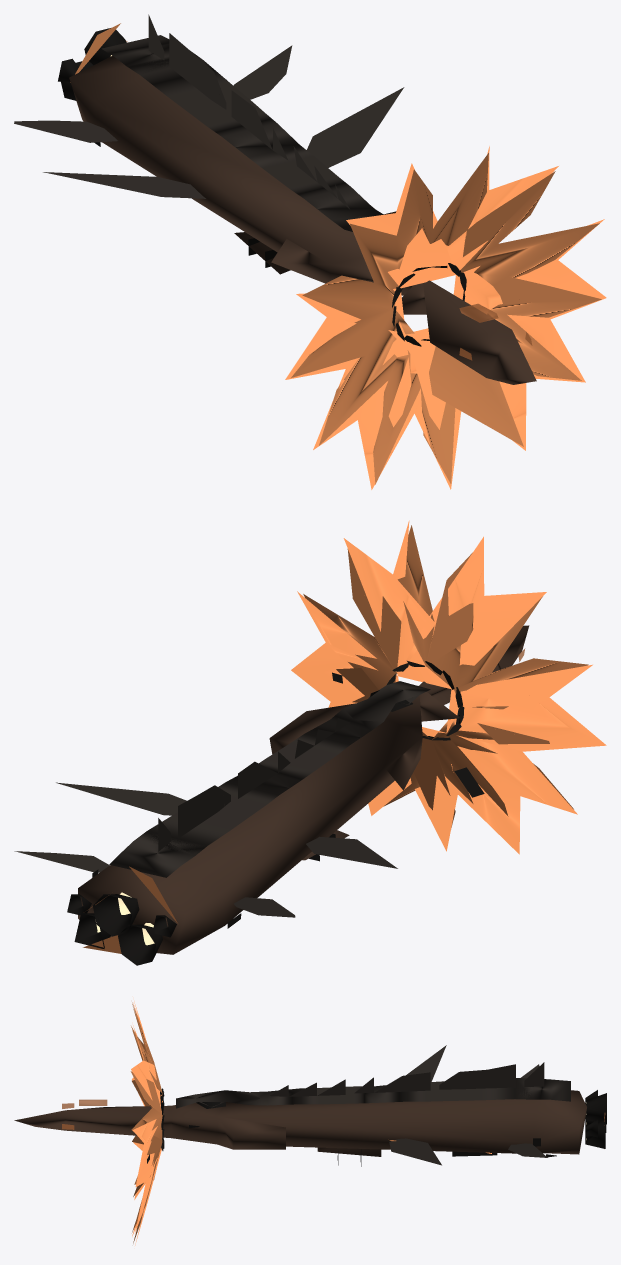
Rendered from kryza-heliotropi-hawk-3-lod2.glb.
3 views of the same model, one above another, from view 1: azimuth 30°, elevation 25°; view 2: azimuth 150°, elevation 25°; view 3: azimuth 270°, elevation 25° (orthographic). The views are drawn at different scales.
Bounding box in the file's own units: 23.02 × 20.6 × 47.91.
